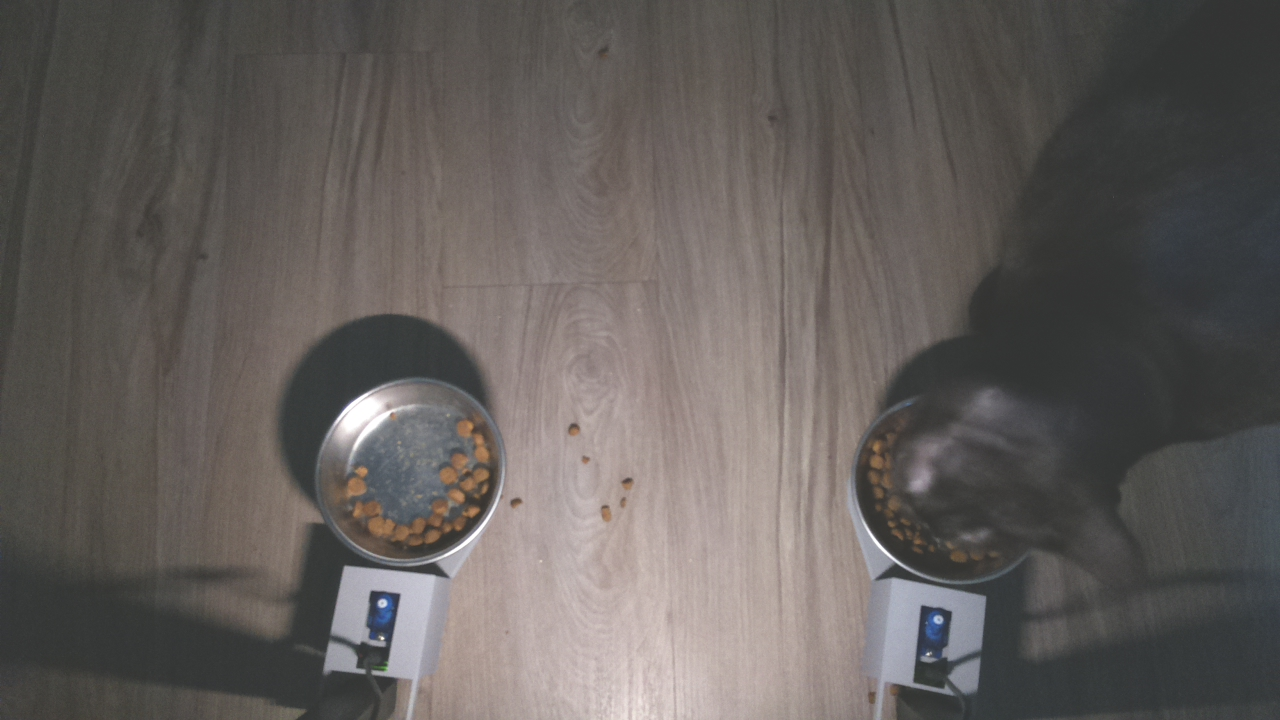open_bowl: (307, 370, 513, 575)
saki_eating: (845, 353, 1173, 592)
